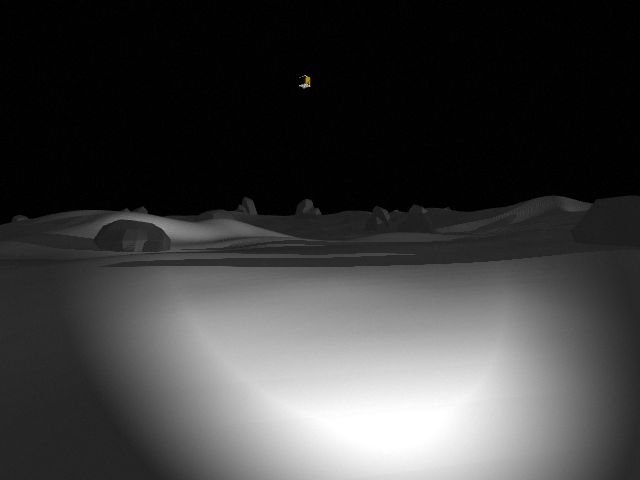cubesat: (290, 72, 317, 93)
